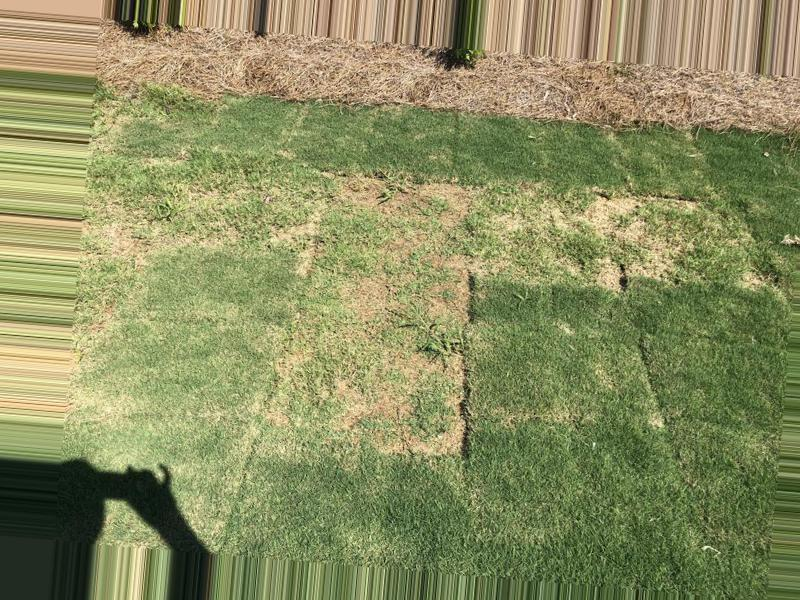patch: (357, 180, 468, 215), (593, 200, 654, 253), (114, 217, 166, 272), (357, 268, 401, 328)
